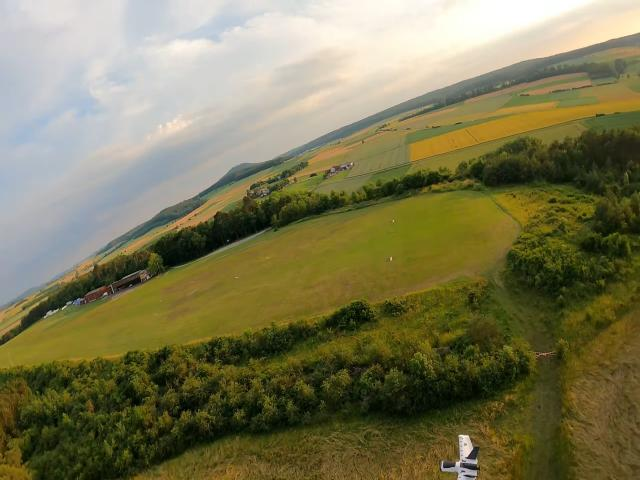plane: (440, 434, 480, 480)
